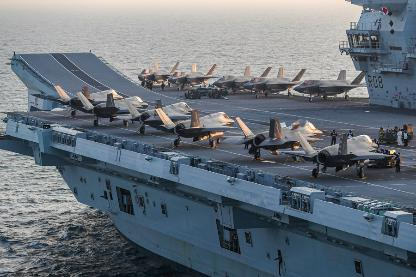F22: (275, 131, 395, 178), (221, 117, 325, 160), (147, 107, 241, 146), (110, 99, 193, 135), (69, 91, 149, 126), (46, 85, 124, 117), (293, 69, 367, 101), (242, 66, 306, 97), (212, 65, 272, 94), (168, 63, 220, 91), (137, 61, 179, 88)
